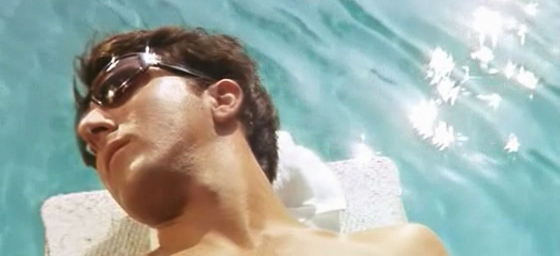cu: (1, 1, 560, 256)
face: (76, 52, 178, 219)
person: (70, 24, 454, 256)
